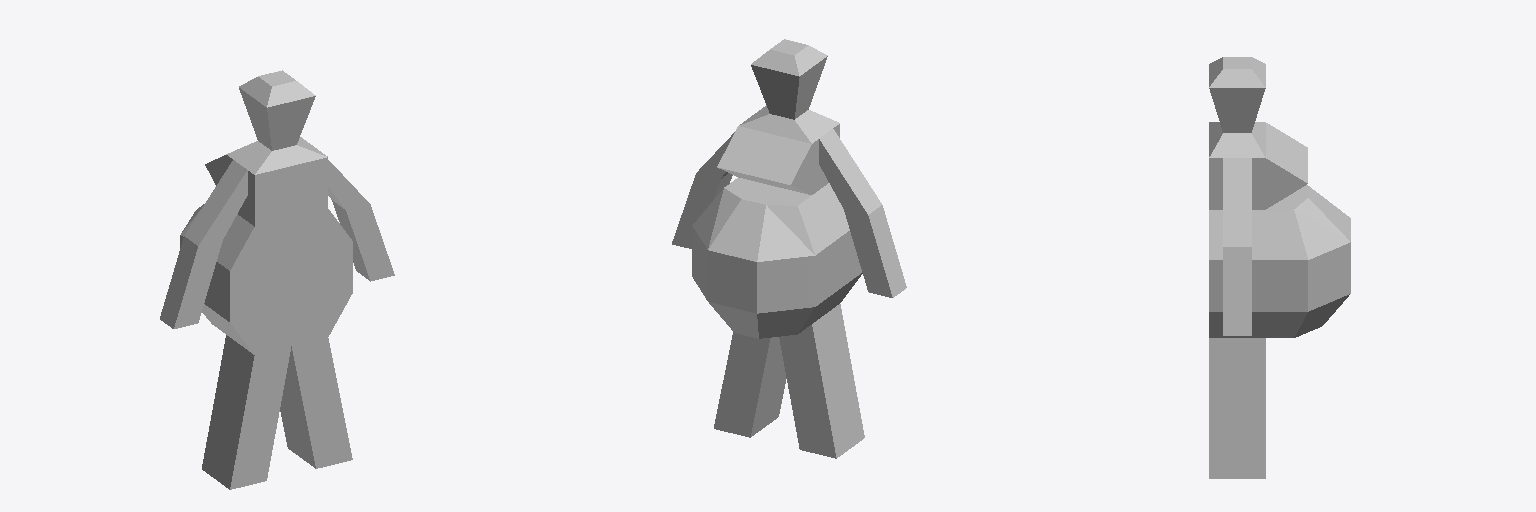
Rendered from player.obj.
3 renders of one model, left to right at view 1: azimuth 30°, elevation 25°; view 2: azimuth 150°, elevation 25°; view 3: azimuth 270°, elevation 25°, orthographic.
Parts seen in each view (by area): view 1: player; view 2: player; view 3: player.
Boxes of the visible parts, box(x1,y1,x2,y2) form: player: box(160, 70, 394, 489); player: box(672, 39, 906, 458); player: box(1209, 57, 1350, 478).
Size of the model in its own units: 4.5 by 7.5 by 2.5.